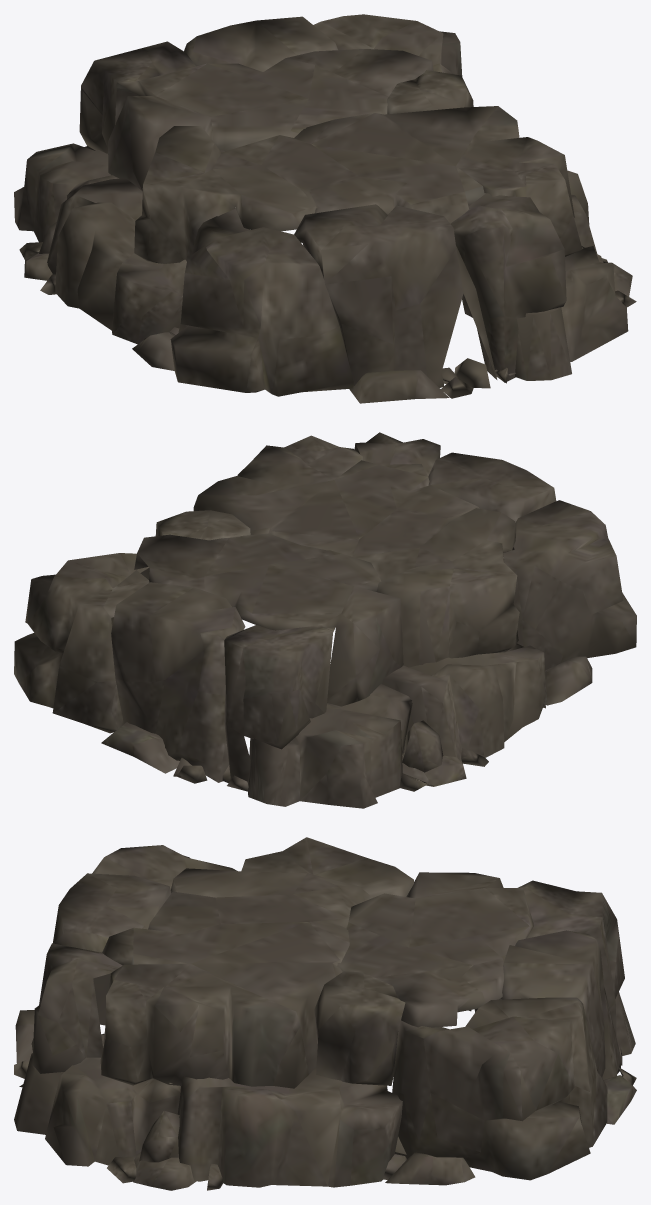
The model's file is x_rock_single_C.glb.
The picture shows the model from 3 angles, top to bottom: view 1: azimuth 30°, elevation 25°; view 2: azimuth 150°, elevation 25°; view 3: azimuth 270°, elevation 25°; orthographic projection. The views are drawn at different scales.
Parts seen in each view (by area): view 1: x_rock_single_C; view 2: x_rock_single_C; view 3: x_rock_single_C.
Boxes of the visible parts, bbox=[...] form: x_rock_single_C: bbox=[14, 14, 636, 403]; x_rock_single_C: bbox=[14, 432, 636, 808]; x_rock_single_C: bbox=[14, 837, 636, 1190].
Size of the model in its own units: 0.3439 by 0.1076 by 0.3842.
1 material, 1 textured.
